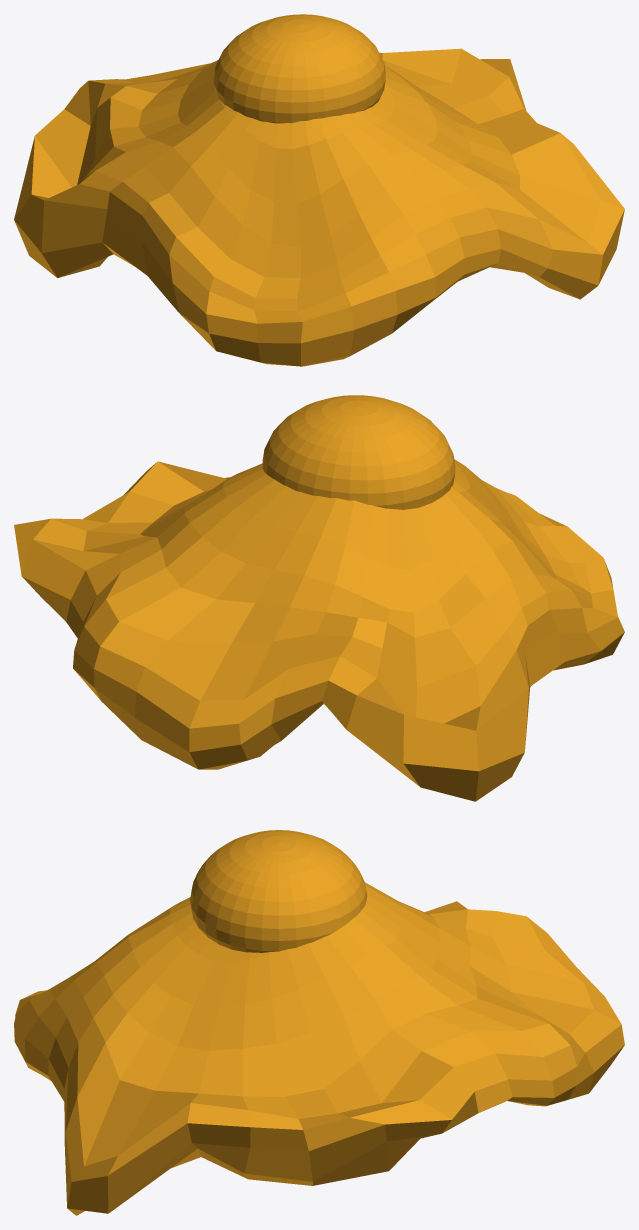
File: EggHatmesh.fbx
The picture shows the model from 3 angles, top to bottom: view 1: azimuth 30°, elevation 25°; view 2: azimuth 150°, elevation 25°; view 3: azimuth 270°, elevation 25°; orthographic projection. The views are drawn at different scales.
Parts seen in each view (by area): view 1: Sphere.001; view 2: Sphere.001; view 3: Sphere.001.
Boxes of the visible parts, x1,y1,x2,y2 form: Sphere.001: [14, 14, 624, 366]; Sphere.001: [14, 395, 624, 801]; Sphere.001: [14, 830, 624, 1215].
Size of the model in its own units: 167 by 87.01 by 176.
